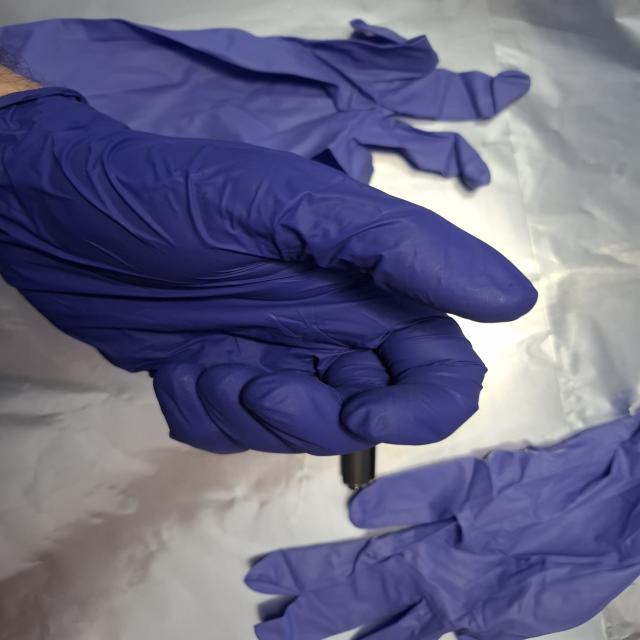glove_on: (0, 78, 543, 458)
